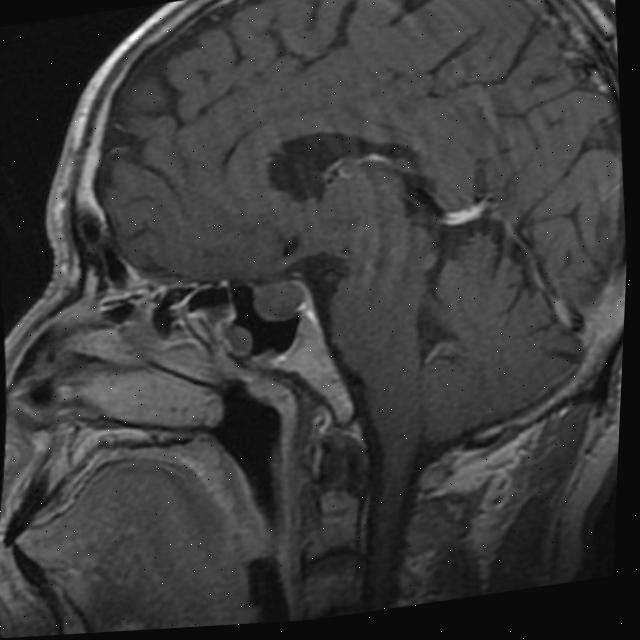Pituitary: (249, 274, 312, 324)
